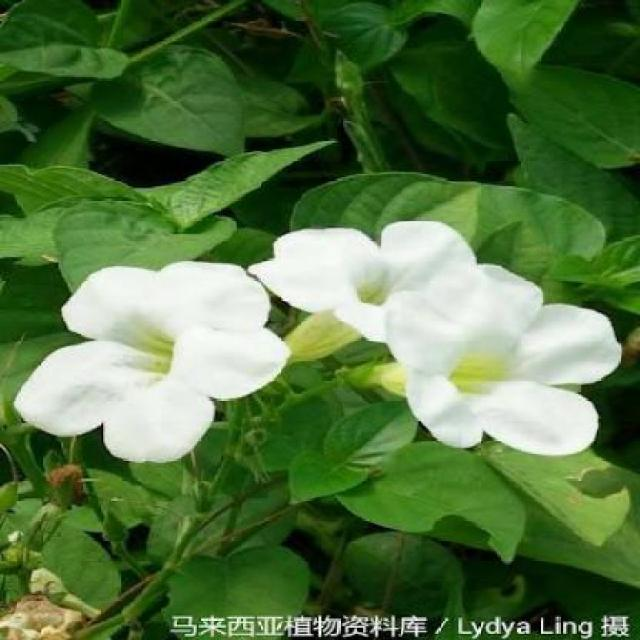flower: (35, 258, 284, 444), (245, 206, 541, 359), (404, 264, 622, 459)
